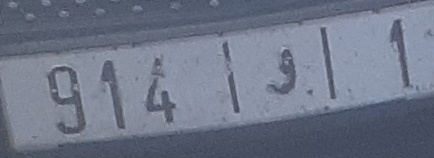1: (98, 59, 128, 130), (385, 17, 411, 89)
4: (141, 54, 179, 126)
9: (47, 62, 88, 136)
waw: (262, 45, 301, 100)
